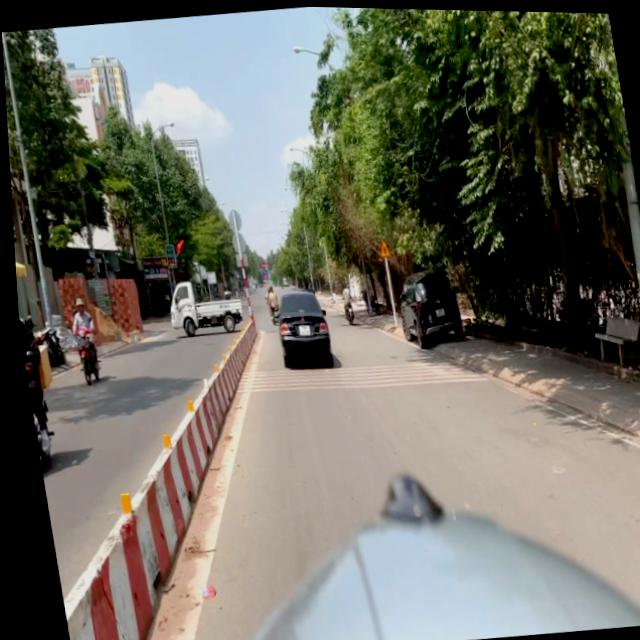Cam di nguoc chieu: (257, 261, 263, 267)
Giao nhau voi duong khong uu tien: (374, 237, 388, 257)
Vong chuong ngai vat sang phai: (258, 267, 264, 273)
